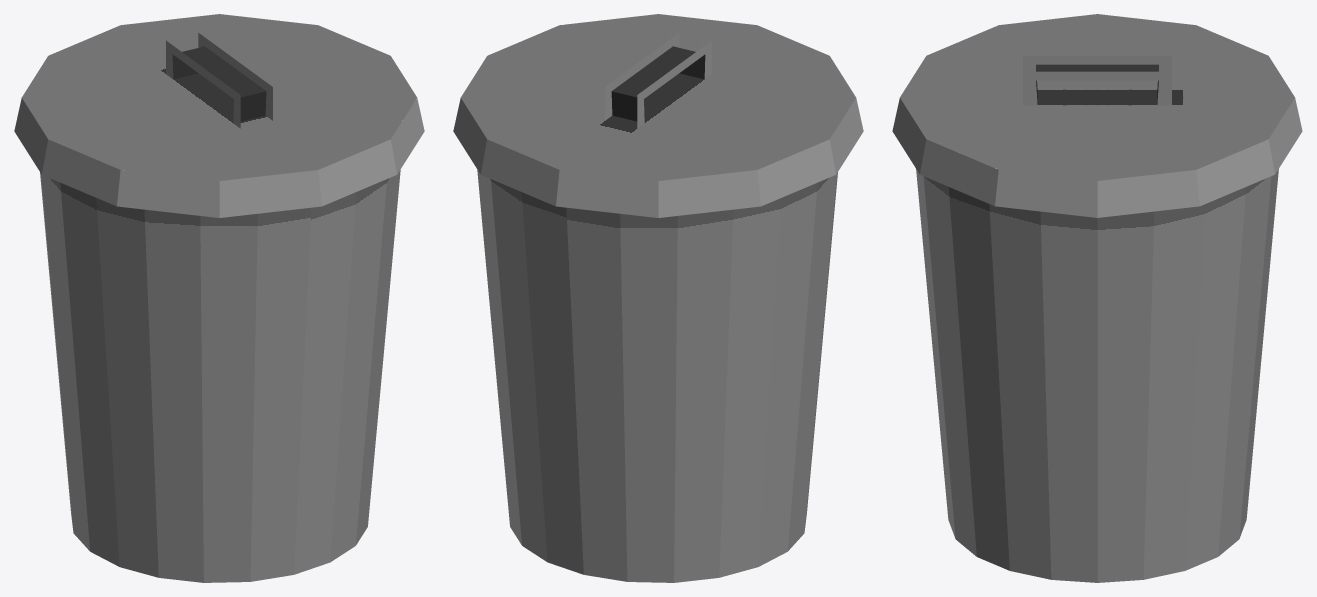
Rendered from Trash Can.fbx.
3 renders of one model, left to right at view 1: azimuth 30°, elevation 25°; view 2: azimuth 150°, elevation 25°; view 3: azimuth 270°, elevation 25°, orthographic.
Visible parts, largest first — view 1: Can, Lid, cube; view 2: Can, Lid, cube; view 3: Can, Lid, cube.
Boxes of the visible parts, x1,y1,x2,y2 form: Can: (40,170,400,582); Lid: (14,14,424,217); cube: (166,33,272,128); Can: (477,170,837,582); Lid: (453,14,863,217); cube: (605,33,711,128); Can: (916,169,1278,582); Lid: (892,14,1302,217); cube: (1023,56,1171,105).
Size of the model in its own units: 34.38 by 42.19 by 34.38.
Materials: 2 (2 with a texture image).
